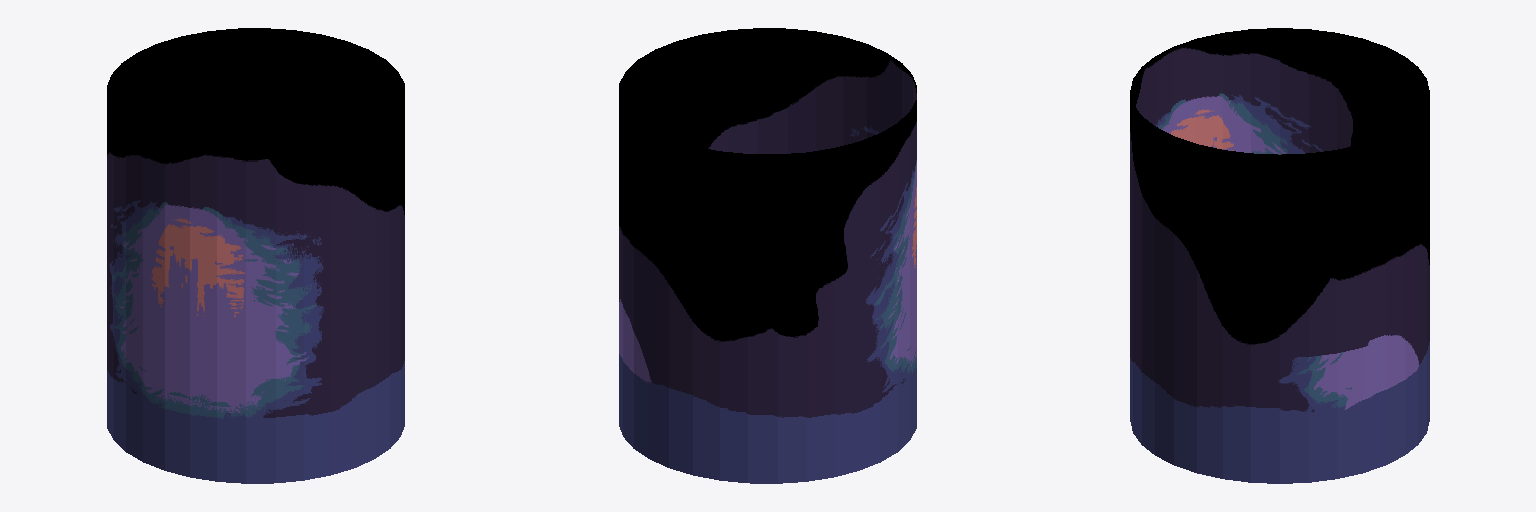
3 renders of one model, left to right at view 1: azimuth 30°, elevation 25°; view 2: azimuth 150°, elevation 25°; view 3: azimuth 270°, elevation 25°, orthographic.
Parts seen in each view (by area): view 1: Cylinder; view 2: Cylinder; view 3: Cylinder.
Boxes of the visible parts, x1=… form: Cylinder: x1=107, y1=28, x2=404, y2=483; Cylinder: x1=619, y1=28, x2=916, y2=483; Cylinder: x1=1130, y1=28, x2=1429, y2=483.
Bounding box in the file's own units: 8.45 × 10.26 × 8.45.
Materials: 1 (1 with a texture image).